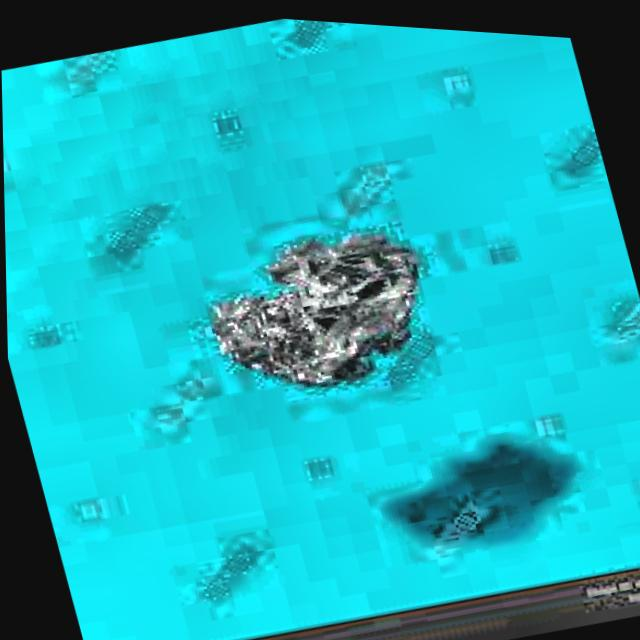Foil: (184, 187, 512, 449)
